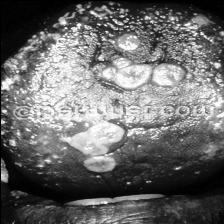Toxin: (10, 14, 224, 174)
